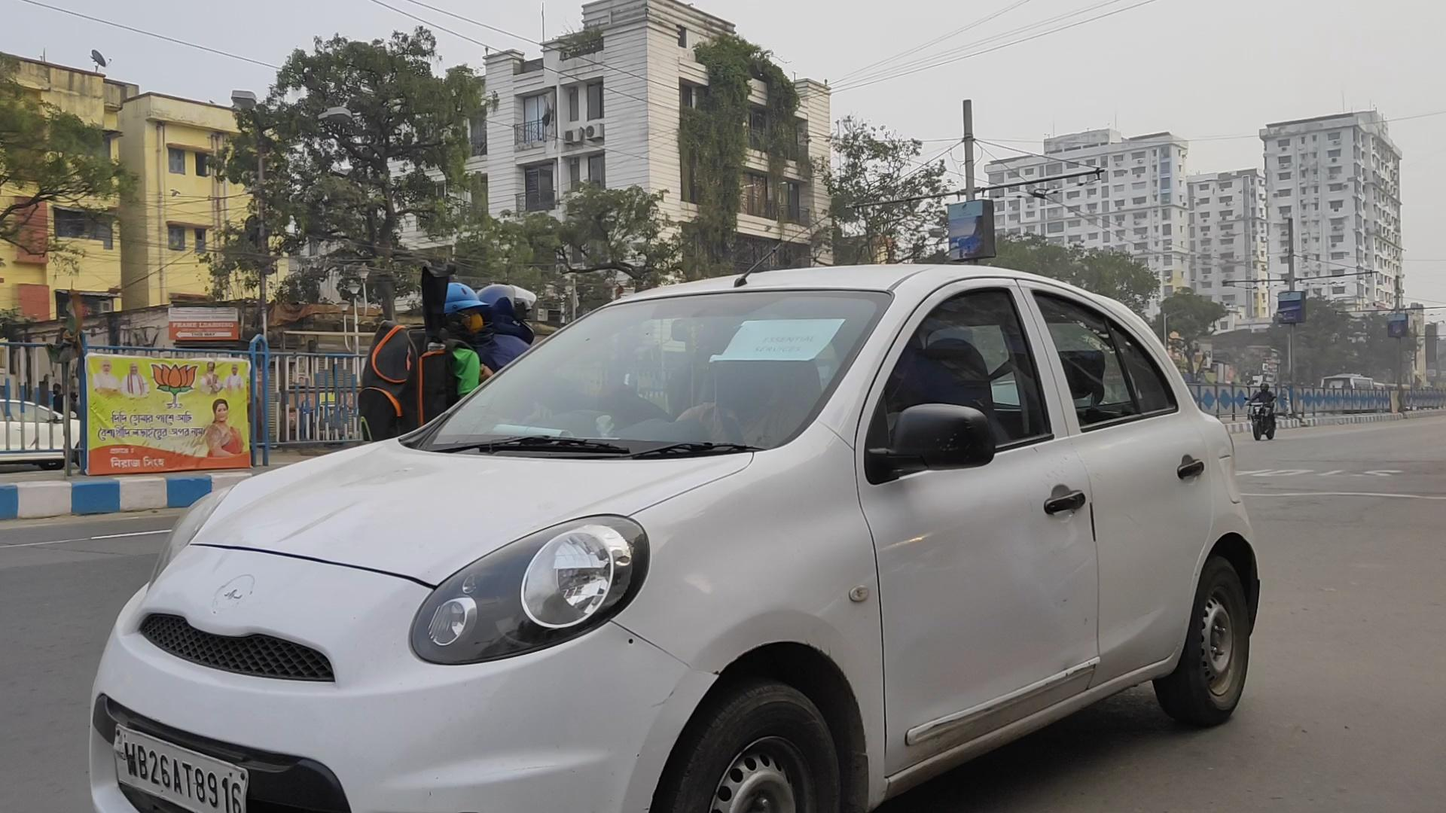bike: (1244, 382, 1278, 440)
car: (87, 262, 1260, 813)
